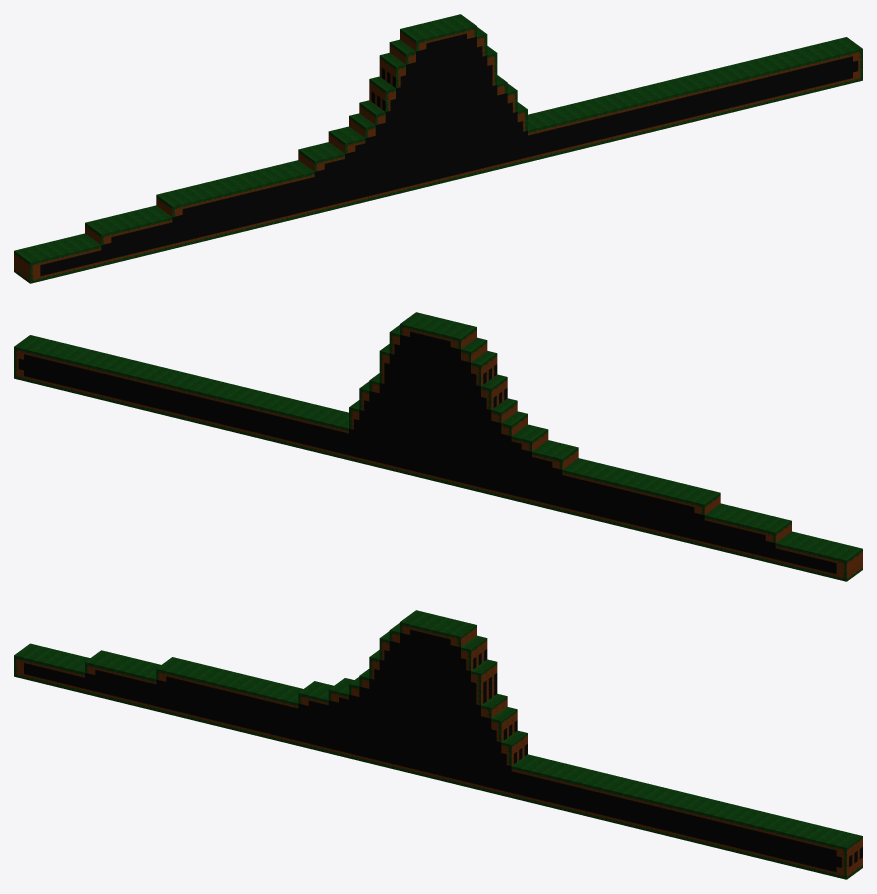
The model's file is Luna0FluttershySolo.glb.
The picture shows the model from 3 angles, top to bottom: view 1: azimuth 30°, elevation 25°; view 2: azimuth 150°, elevation 25°; view 3: azimuth 330°, elevation 25°; orthographic projection.
Visible parts, largest first — view 1: Setor_1, Setor_0, Setor_2; view 2: Setor_1, Setor_0, Setor_2; view 3: Setor_1, Setor_0, Setor_2.
Part boxes in pixels (box(x1,y1,x2,y2)): Setor_1: box(339, 14, 680, 204); Setor_0: box(14, 129, 355, 283); Setor_2: box(664, 37, 862, 124); Setor_1: box(196, 312, 537, 502); Setor_0: box(521, 427, 862, 581); Setor_2: box(14, 335, 212, 422); Setor_1: box(339, 610, 679, 834); Setor_0: box(14, 643, 353, 755); Setor_2: box(664, 791, 862, 879).
Size of the model in its own units: 85.28 by 14.56 by 2.88.
1 material, 1 textured.
